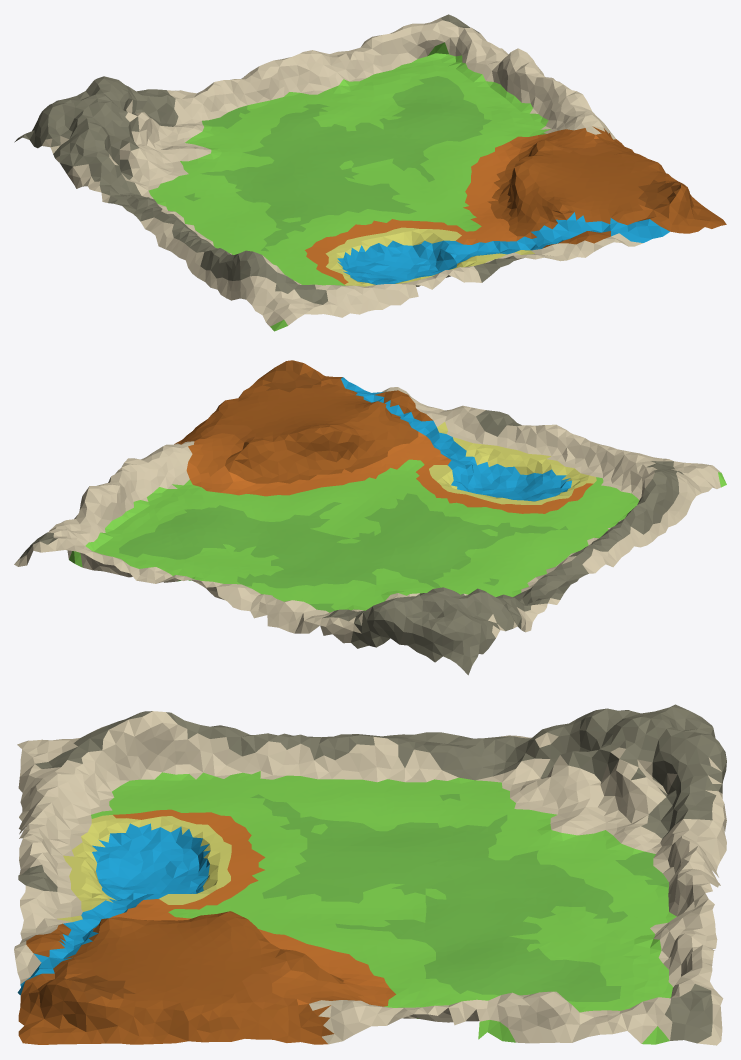
Rendered from First Terrain.fbx.
3 renders of one model, top to bottom at view 1: azimuth 30°, elevation 25°; view 2: azimuth 150°, elevation 25°; view 3: azimuth 270°, elevation 25°, orthographic. The views are drawn at different scales.
Visible parts, largest first — view 1: Plane; view 2: Plane; view 3: Plane.
Part boxes in pixels (box(x1,y1,x2,y2)): Plane: box(14, 14, 726, 331); Plane: box(14, 360, 726, 675); Plane: box(14, 704, 726, 1045).
Size of the model in its own units: 1822 by 262 by 1841.
